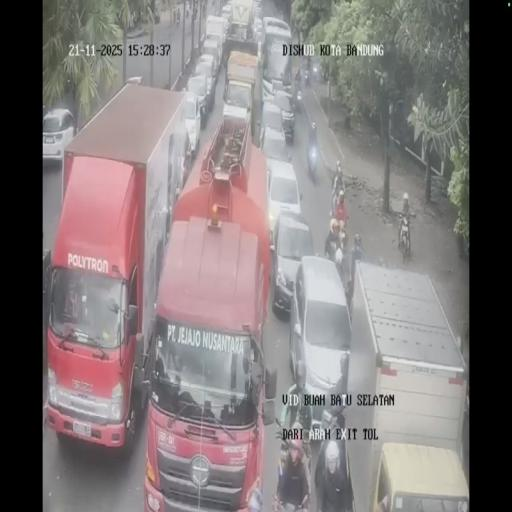3: (45, 80, 195, 455), (342, 262, 466, 510), (261, 16, 293, 86)
car: (270, 208, 314, 318), (170, 106, 196, 196), (42, 108, 76, 166), (186, 72, 210, 128), (272, 89, 296, 142), (200, 37, 222, 84), (261, 76, 279, 106), (252, 16, 264, 46), (220, 3, 232, 29), (310, 58, 322, 82)
truck: (397, 212, 412, 264), (331, 184, 345, 226), (307, 142, 319, 182), (336, 218, 347, 254), (292, 82, 302, 111), (304, 68, 310, 88)
